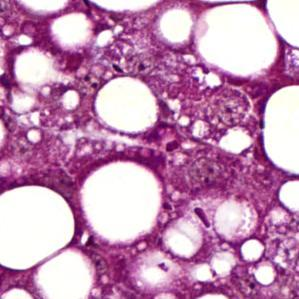steatosis: (80, 162, 167, 244), (95, 75, 160, 133)
